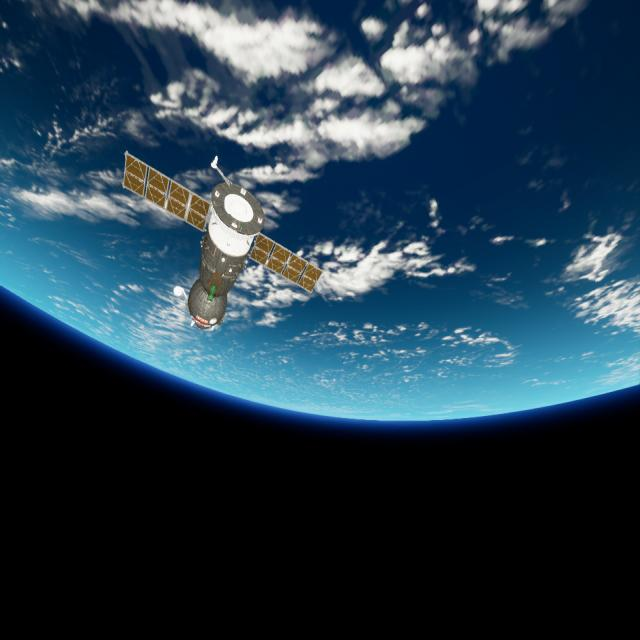Satellites revolving around earth: (120, 148, 324, 333)
